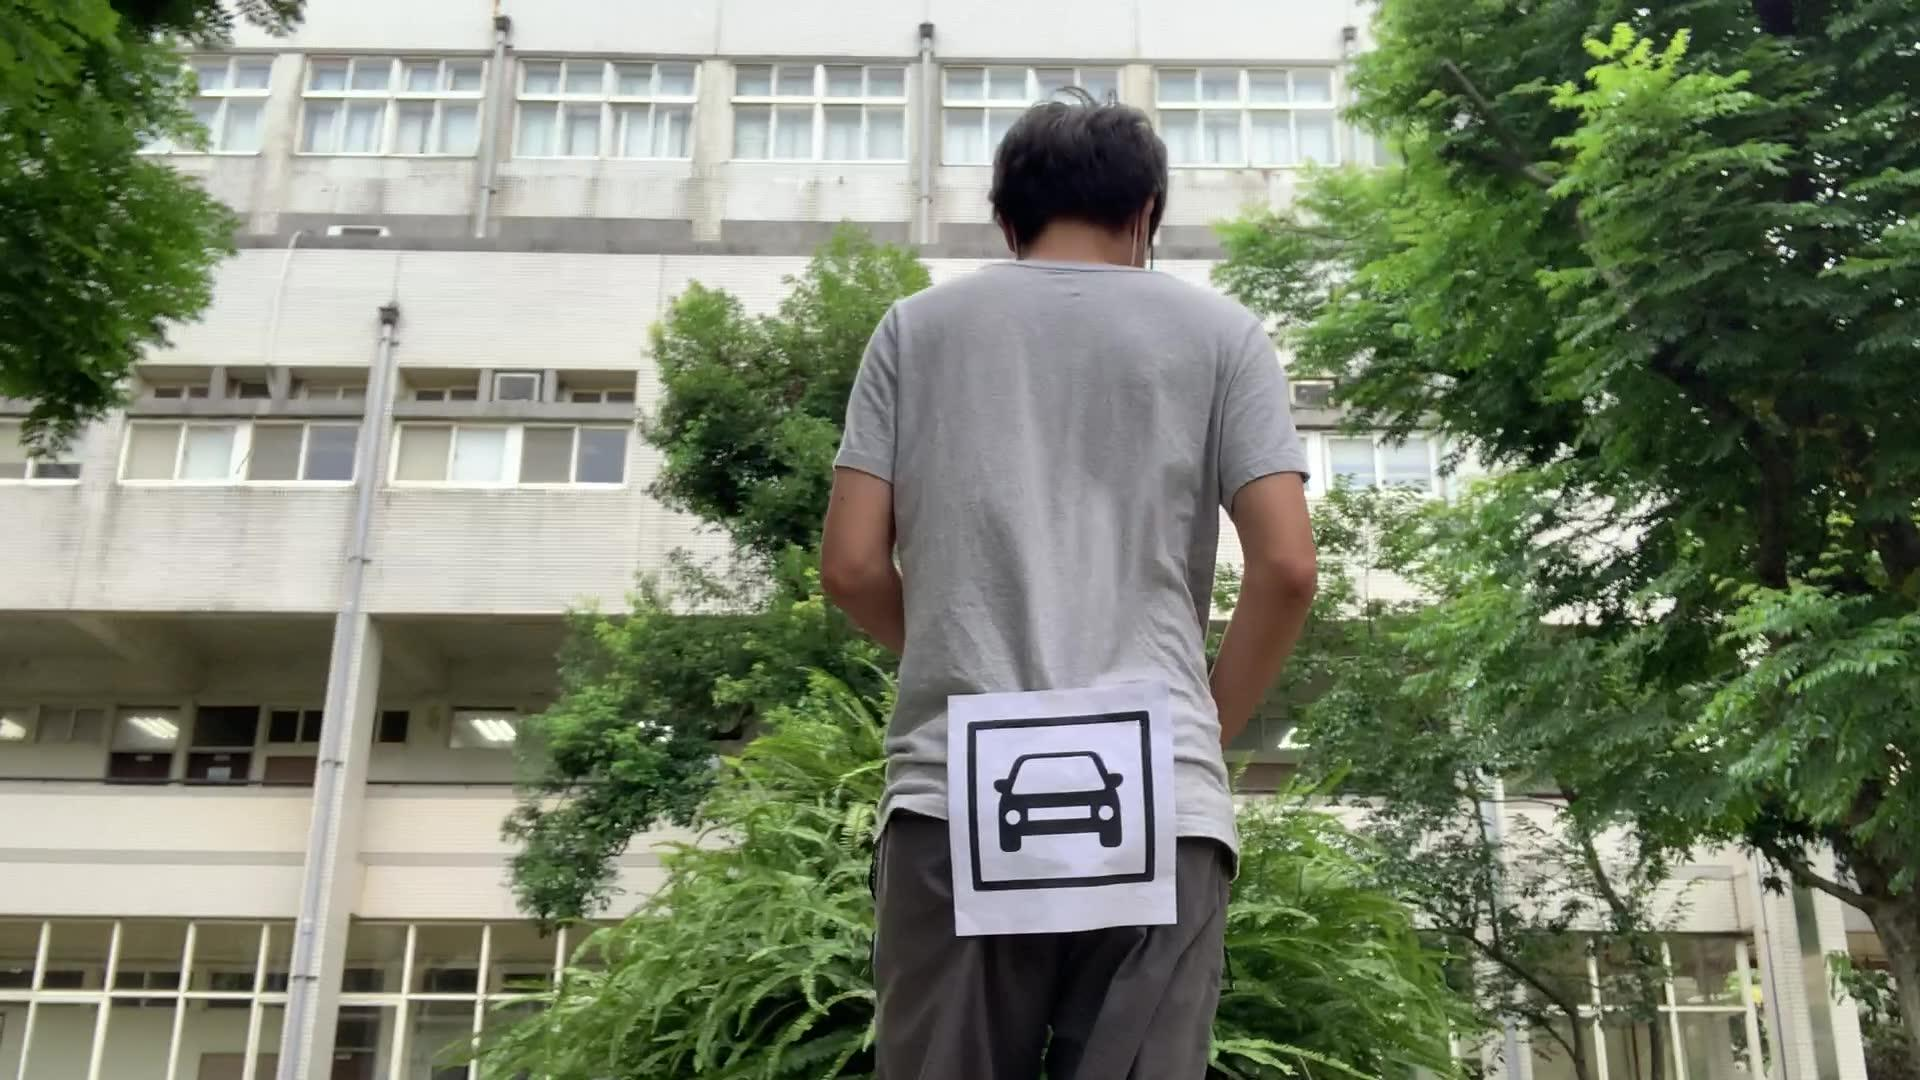car_img: (967, 709, 1155, 893)
